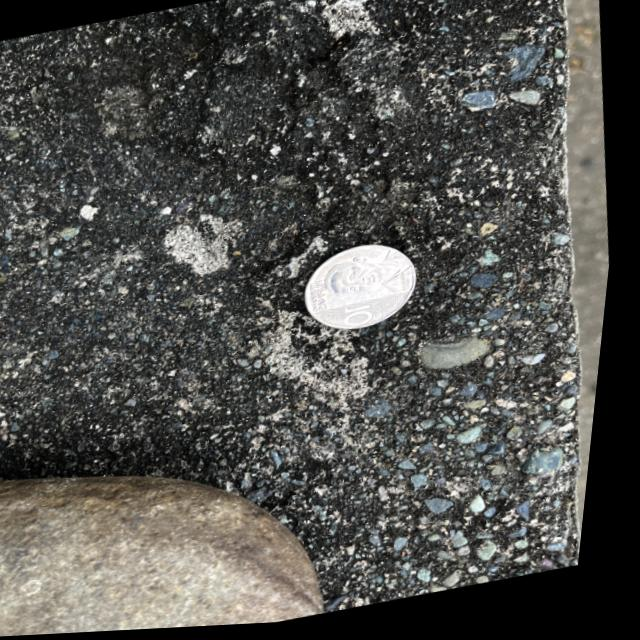10_New_Front: (344, 301, 400, 336)
